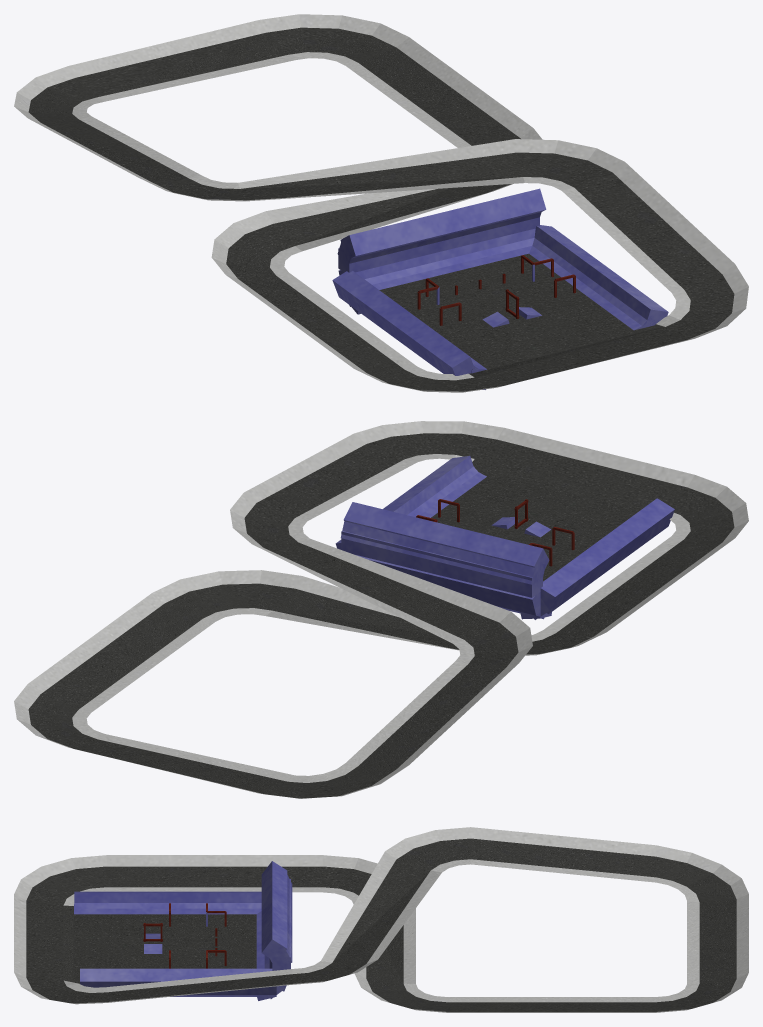
File: testcircuit.obj
3 views of the same model, one above another, from view 1: azimuth 30°, elevation 25°; view 2: azimuth 150°, elevation 25°; view 3: azimuth 270°, elevation 25° (orthographic). The views are drawn at different scales.
Visible parts, largest first — view 1: Plane_Plane.037; view 2: Plane_Plane.037; view 3: Plane_Plane.037.
Boxes of the visible parts, x1=… form: Plane_Plane.037: x1=14, y1=14, x2=748, y2=392; Plane_Plane.037: x1=14, y1=421, x2=748, y2=798; Plane_Plane.037: x1=14, y1=827, x2=748, y2=1012.
Bounding box in the file's own units: 12 × 2.21 × 23.77.
